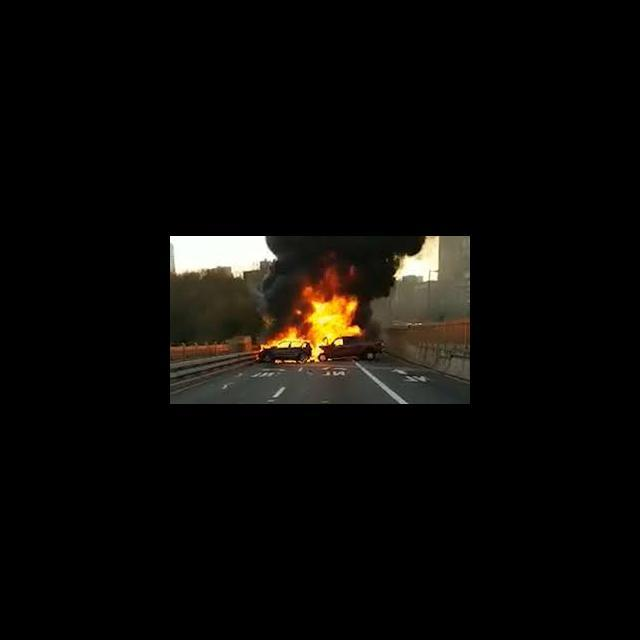Fire: (260, 249, 366, 365)
